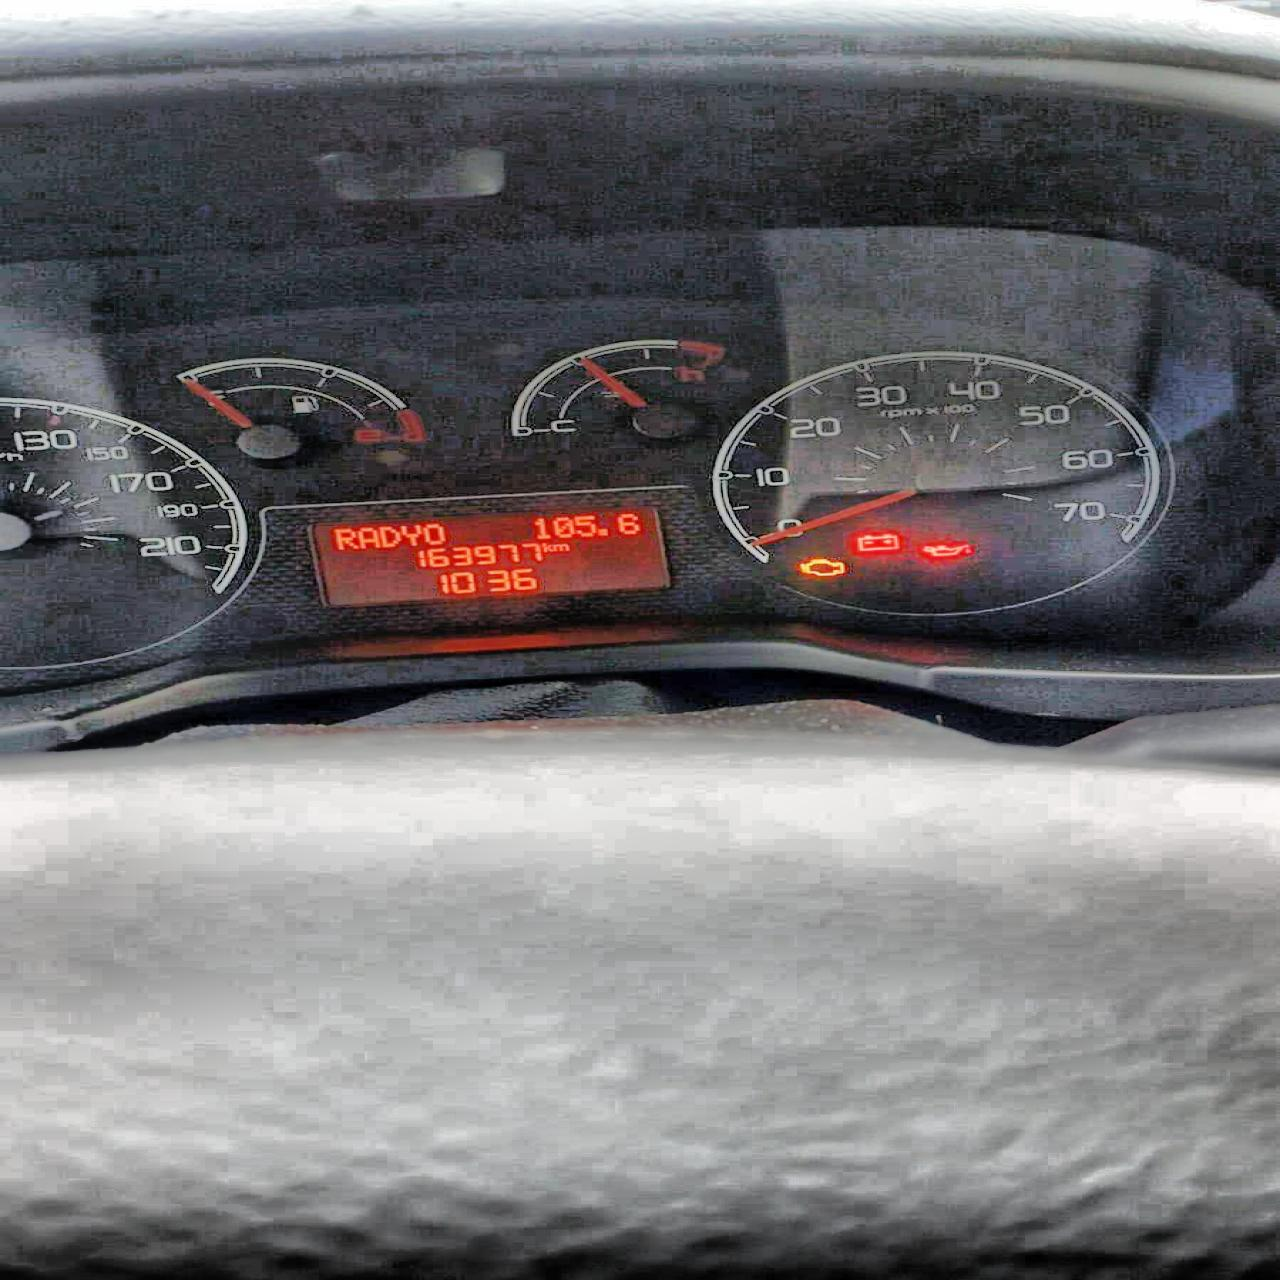-: (595, 527, 607, 536)
0: (449, 571, 476, 593), (551, 516, 574, 538)
1: (532, 517, 550, 539), (437, 573, 449, 594), (415, 550, 425, 567)
3: (485, 570, 510, 591), (451, 546, 471, 566)
5: (573, 515, 595, 536)
6: (510, 567, 537, 591), (615, 513, 639, 535), (425, 547, 449, 566)
7: (497, 543, 518, 561), (520, 543, 542, 561)
9: (472, 545, 496, 565)
X: (334, 527, 358, 550), (420, 524, 444, 545), (377, 525, 400, 547), (356, 526, 379, 549), (400, 523, 420, 546), (551, 543, 570, 551), (542, 542, 551, 551)
odometer: (306, 502, 678, 610)
